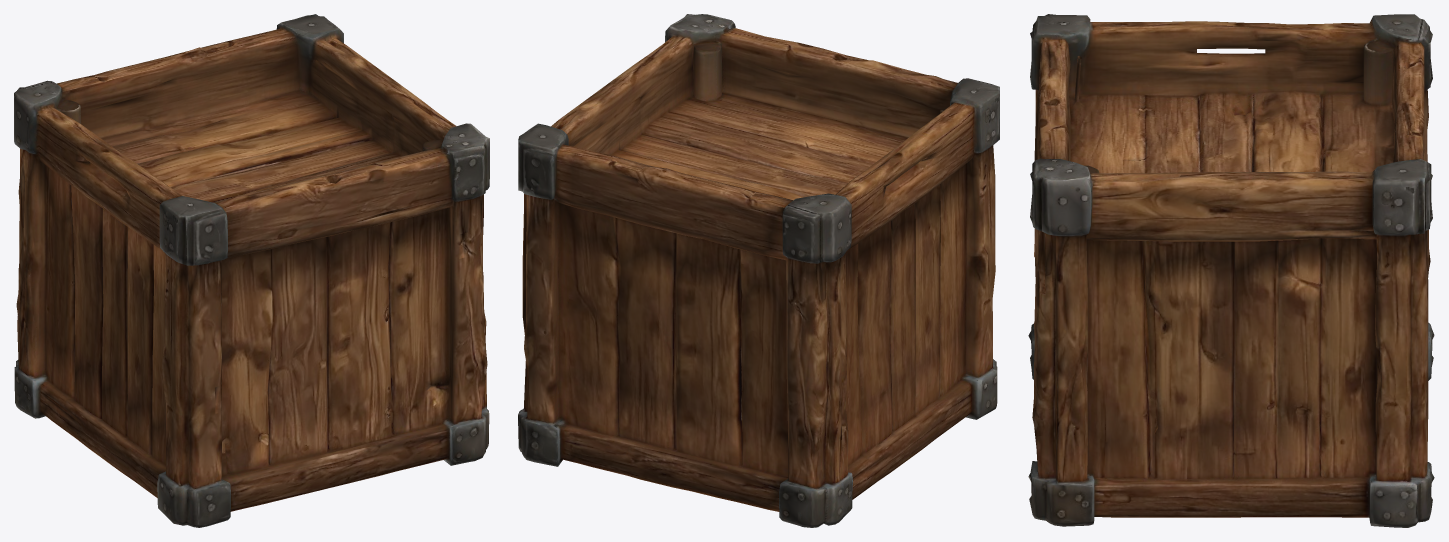
File: crate.glb
3 renders of one model, left to right at view 1: azimuth 30°, elevation 25°; view 2: azimuth 150°, elevation 25°; view 3: azimuth 270°, elevation 25°, orthographic. The views are drawn at different scales.
Parts seen in each view (by area): view 1: tripo_node_41976853-2b92-4e5b-8502-8ba61a4b7d9e; view 2: tripo_node_41976853-2b92-4e5b-8502-8ba61a4b7d9e; view 3: tripo_node_41976853-2b92-4e5b-8502-8ba61a4b7d9e.
Part boxes in pixels (x1,y1,x2,y2): tripo_node_41976853-2b92-4e5b-8502-8ba61a4b7d9e: (14, 14, 489, 527); tripo_node_41976853-2b92-4e5b-8502-8ba61a4b7d9e: (518, 14, 999, 527); tripo_node_41976853-2b92-4e5b-8502-8ba61a4b7d9e: (1028, 14, 1434, 527).
Bounding box in the file's own units: 0.9772 × 0.9275 × 0.9772.
1 material, 1 textured.
